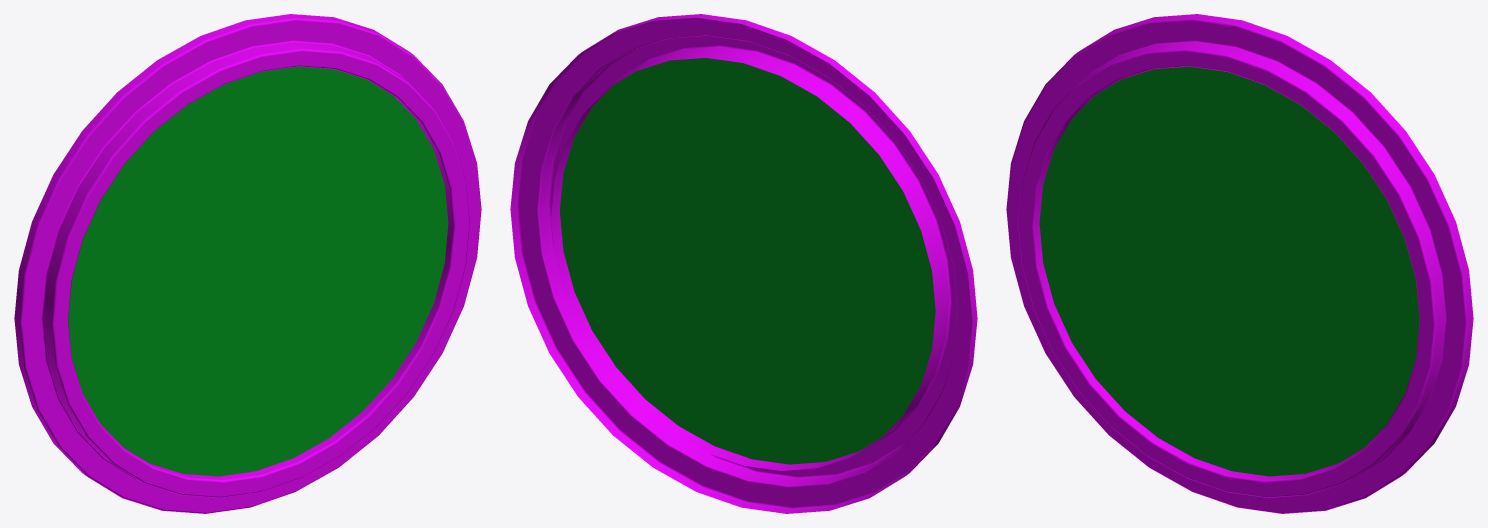
Rendered from Fenetre_Ronde_Grande_4x4x0_025.FBX.
3 renders of one model, left to right at view 1: azimuth 30°, elevation 25°; view 2: azimuth 150°, elevation 25°; view 3: azimuth 330°, elevation 25°, orthographic.
Parts seen in each view (by area): view 1: Fenetre_Ronde_Grande_4x4x0_025; view 2: Fenetre_Ronde_Grande_4x4x0_025; view 3: Fenetre_Ronde_Grande_4x4x0_025.
Boxes of the visible parts, x1=… form: Fenetre_Ronde_Grande_4x4x0_025: x1=14, y1=14, x2=481, y2=513; Fenetre_Ronde_Grande_4x4x0_025: x1=510, y1=14, x2=977, y2=513; Fenetre_Ronde_Grande_4x4x0_025: x1=1006, y1=14, x2=1473, y2=513.
Size of the model in its own units: 299 by 299 by 18.32.
